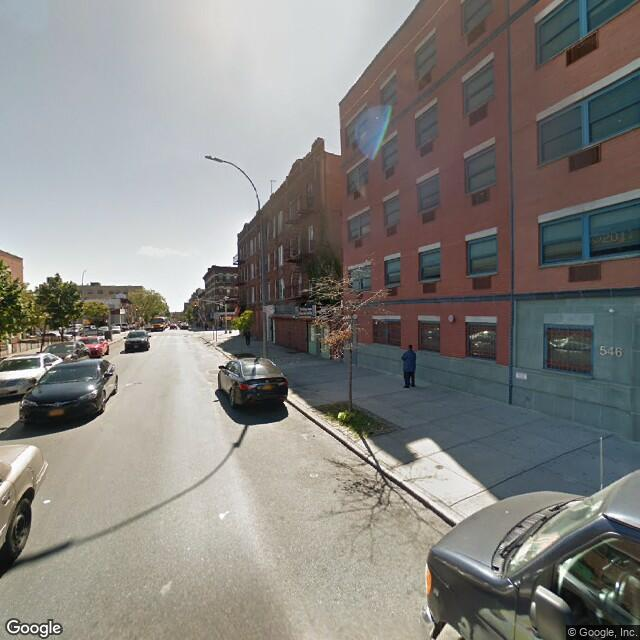litter: (334, 411, 357, 424), (41, 498, 52, 506), (366, 421, 373, 428)
